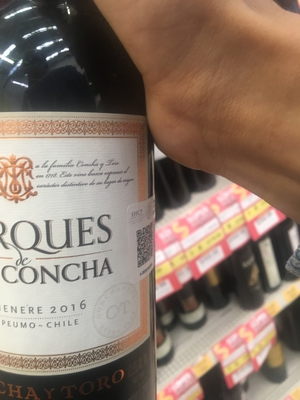marques de casa concha carmenere: (1, 28, 161, 400)
